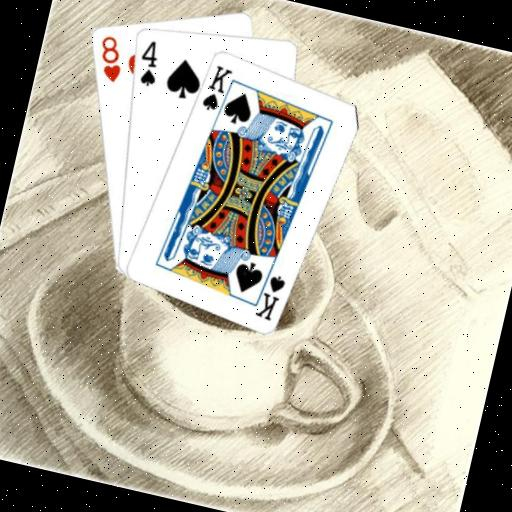4S: (131, 35, 166, 89)
8H: (90, 31, 130, 86)
KS: (247, 262, 290, 324), (197, 59, 235, 115)
